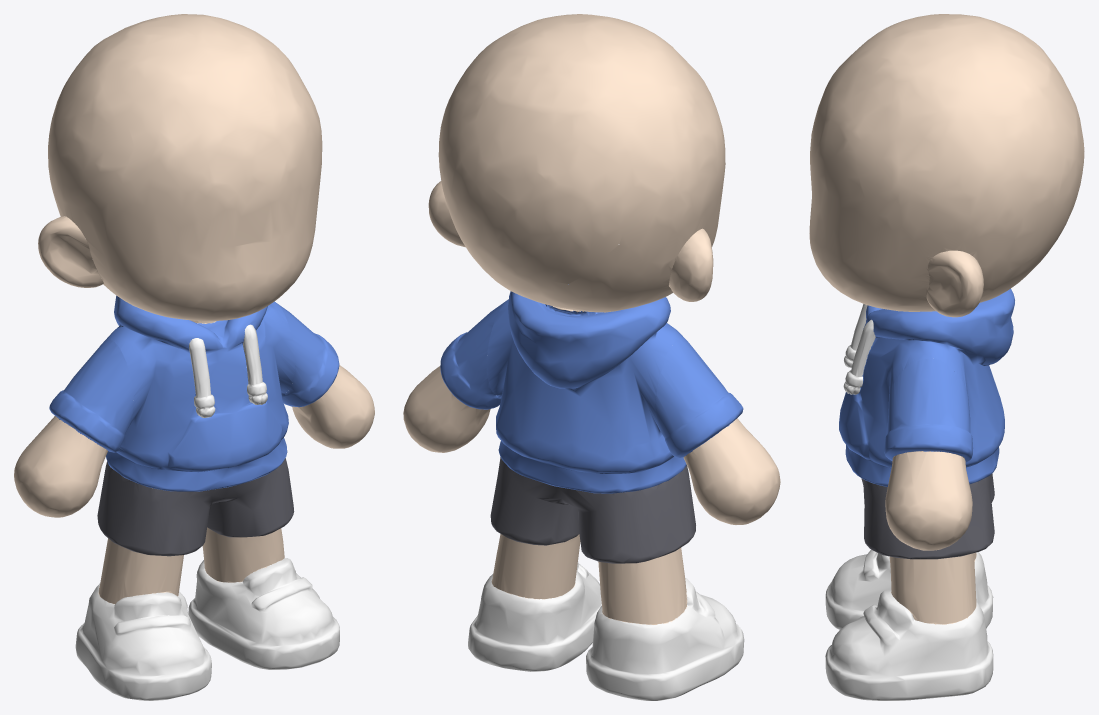
Rendered from body_a.glb.
The picture shows the model from 3 angles, left to right: view 1: azimuth 30°, elevation 25°; view 2: azimuth 150°, elevation 25°; view 3: azimuth 270°, elevation 25°; orthographic projection. The views are drawn at different scales.
Visible parts, largest first — view 1: head, top, shoe_l, bottom, shoe_r, hand_r, sleeve_r, hand_l, leg_r, sleeve_l, leg_l, ear_r (+2 smaller); view 2: head, top, bottom, shoe_r, shoe_l, hand_r, sleeve_r, leg_r, leg_l, hand_l, sleeve_l, ear_r (+1 smaller); view 3: head, top, shoe_l, hand_l, sleeve_l, leg_l, bottom, shoe_r, ear_l, trim_top_1, trim_top_0.
Boxes of the visible parts, x1,y1,x2,y2 form: head: (48,14,322,323); top: (104,295,295,491); shoe_l: (188,558,339,669); bottom: (97,458,294,556); shoe_r: (75,583,211,700); hand_r: (14,416,107,517); sleeve_r: (49,340,133,452); hand_l: (292,365,374,448); leg_r: (98,538,183,604); sleeve_l: (277,303,339,407); leg_l: (202,527,284,582); ear_r: (38,216,103,287); head: (438,14,725,312); top: (486,284,687,493); bottom: (490,457,695,563); shoe_r: (586,577,744,700); shoe_l: (468,561,601,671); hand_r: (683,418,780,524); sleeve_r: (655,338,743,457); leg_r: (598,547,687,624); leg_l: (491,534,580,599); hand_l: (403,366,490,452); sleeve_l: (440,301,505,409); ear_r: (668,228,713,301); head: (809,14,1084,311); top: (839,288,1014,486); shoe_l: (825,590,993,700); hand_l: (885,451,972,550); sleeve_l: (884,358,973,462); leg_l: (889,553,976,624); bottom: (861,473,994,559); shoe_r: (825,549,993,629); ear_l: (926,250,983,317); trim_top_1: (843,319,875,394); trim_top_0: (844,304,867,367).
Bounding box in the file's own units: 0.5784 × 0.9787 × 0.3941.
